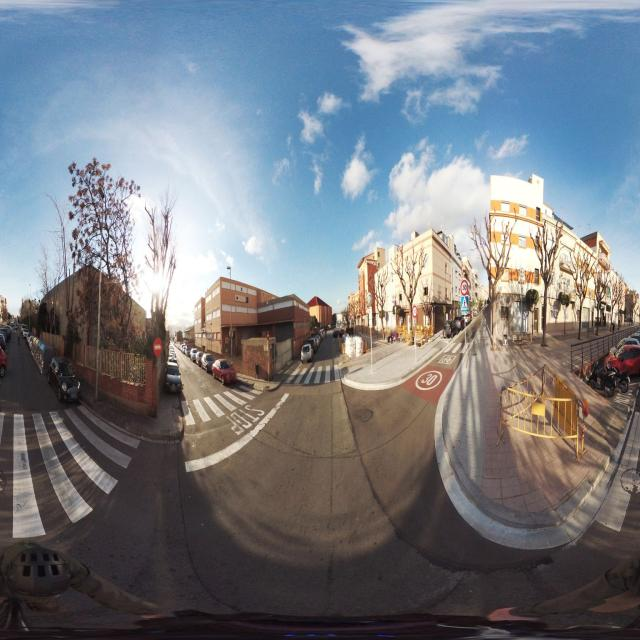forb_stopping: (394, 300, 397, 306)
